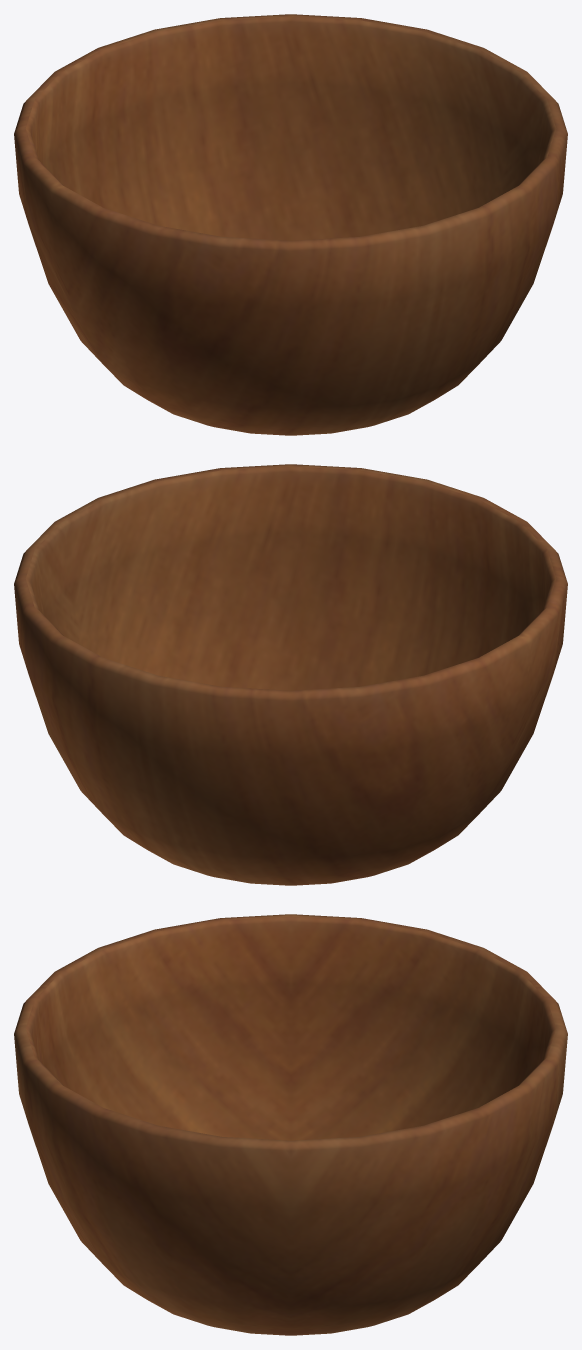
Rendered from GardenTableWear01_15.FBX.
3 renders of one model, top to bottom at view 1: azimuth 30°, elevation 25°; view 2: azimuth 150°, elevation 25°; view 3: azimuth 270°, elevation 25°, orthographic.
Visible parts, largest first — view 1: GardenTableWear01_15; view 2: GardenTableWear01_15; view 3: GardenTableWear01_15.
Boxes of the visible parts, left/top/right/bottom form: GardenTableWear01_15: left=14, top=14, right=567, bottom=435; GardenTableWear01_15: left=14, top=464, right=567, bottom=885; GardenTableWear01_15: left=14, top=914, right=567, bottom=1335.
Size of what is drawn, in the model's own units: 0.2768 by 0.1332 by 0.2768.
